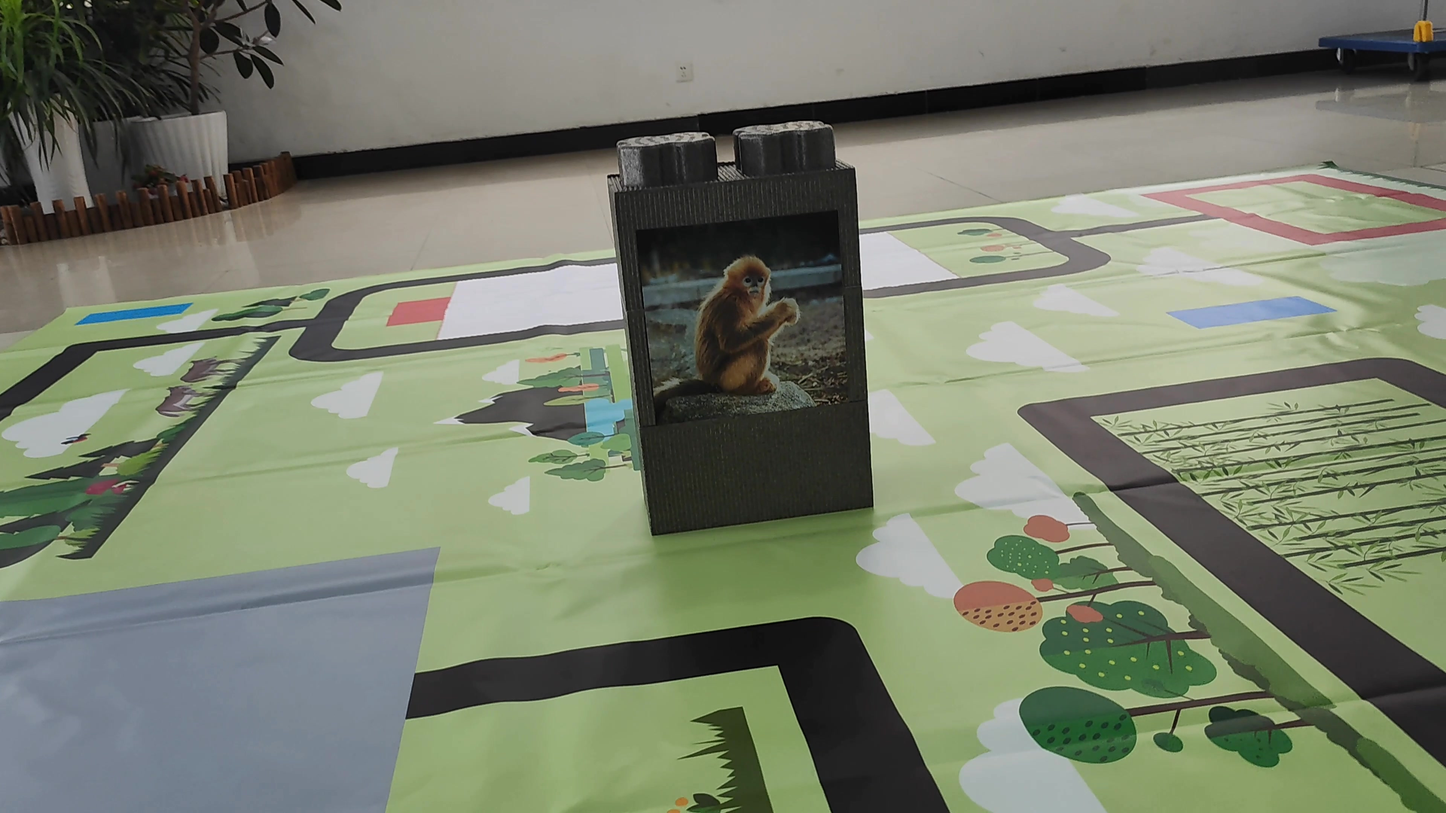monkey: (643, 253, 809, 418)
